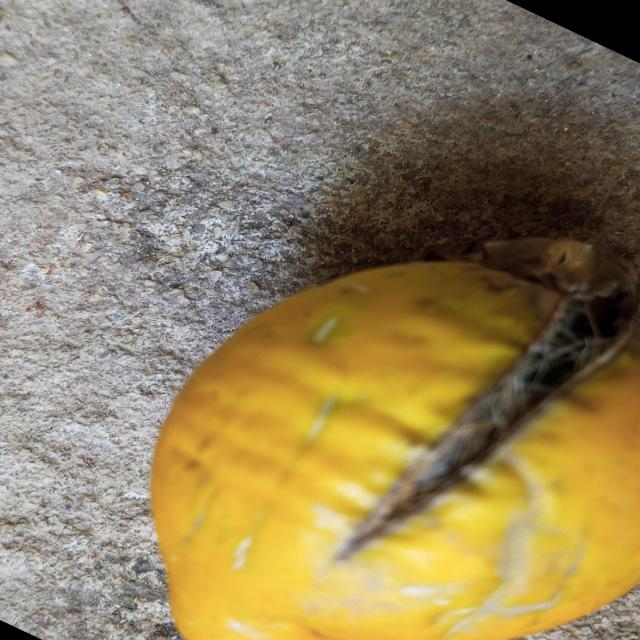damaged: (151, 239, 640, 640)
